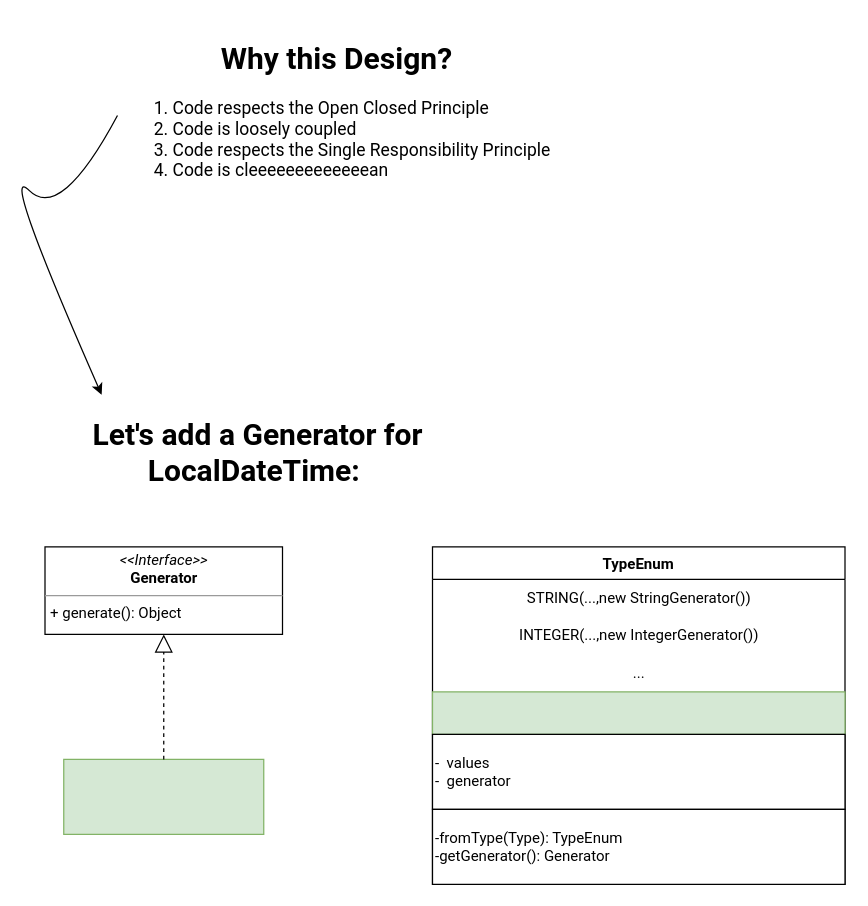
The diagram is 868 pixels wide and 906 high, and some of its shapes have lost their labels. The shapes that lost their labels are listed below. From the top down, each one's centre as x and y in pixels, then its label:
point 638,712: LOCAL_DATE_TIME(...,new LocalDateTimeGenerator())
point 163,796: LocalDateTimeGenerator + generate(): LocalDateTime
